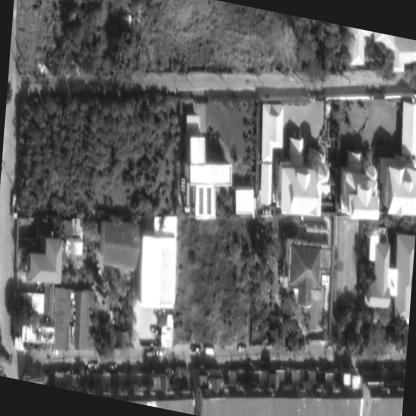solar-pv-panel: (206, 187, 211, 215), (199, 188, 204, 215)
